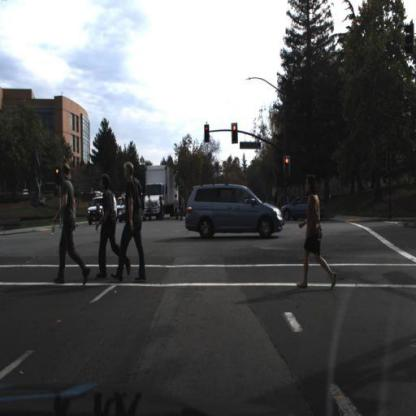car: (184, 181, 285, 240), (144, 163, 178, 221), (282, 193, 333, 220), (85, 193, 117, 227)
pedestrian: (294, 173, 339, 289), (54, 161, 90, 286), (116, 162, 148, 280), (94, 176, 124, 280), (183, 192, 191, 225), (147, 191, 155, 223), (158, 192, 166, 224), (171, 192, 180, 220), (146, 190, 154, 220), (178, 194, 185, 222)
trafficLight-Red: (283, 154, 291, 180), (232, 123, 239, 146)
trafficLight-RedLeft: (204, 122, 212, 145)
truck: (142, 163, 181, 220)
